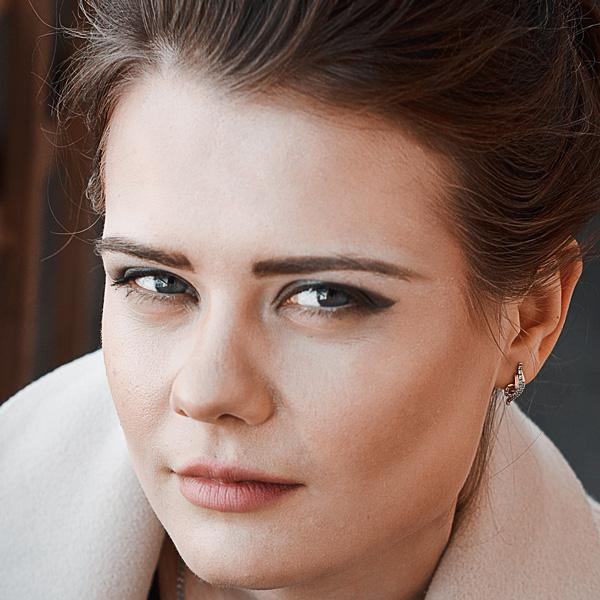Eyes: (262, 274, 397, 337), (100, 257, 202, 316)
